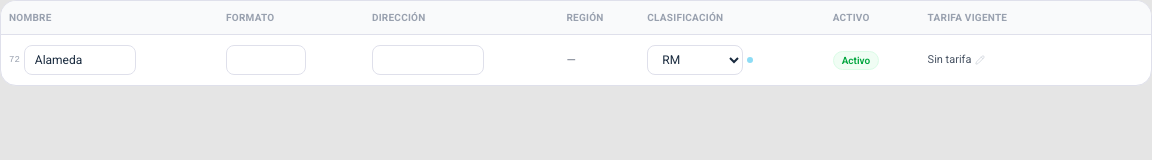
it: LocationsTable › shows "Sin tarifa" and reveals inputs only after clicking Editar tarifa
Click the button with aria-label "Editar tarifa de Alameda".
click(956, 60)  # box [928,53,985,68]
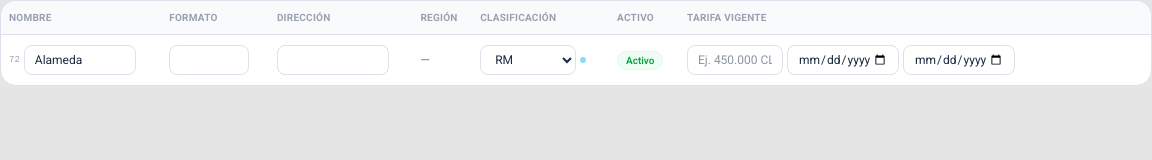
Now the field named "Tarifa de Alameda" is shown, box [687,45,783,75]
